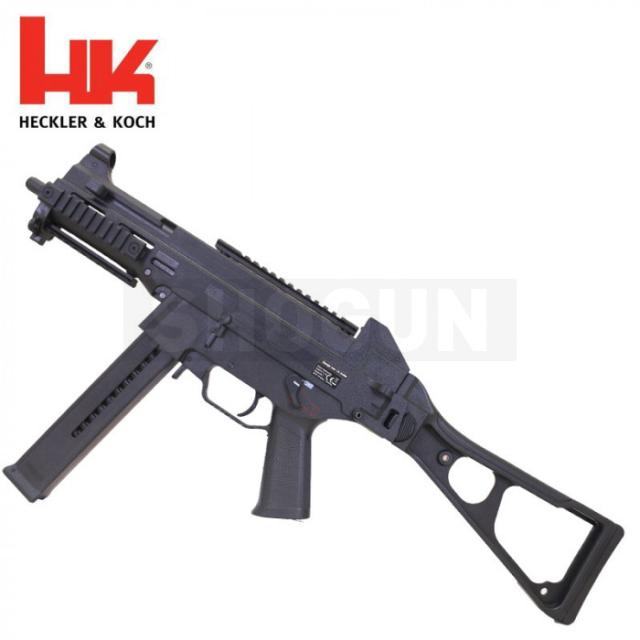SMG: (4, 144, 625, 628)
